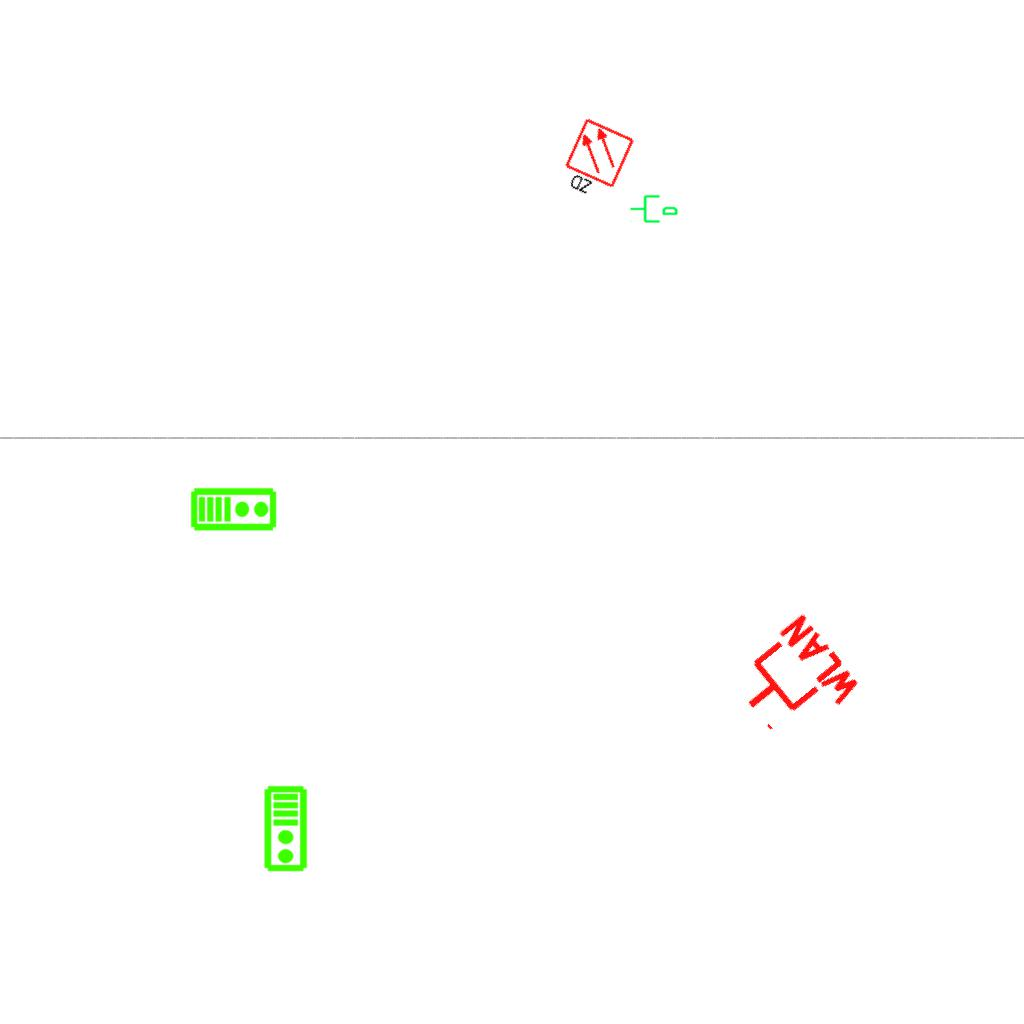Datenanschluss_einfach: (629, 191, 679, 225)
Gegensprechanlage_mit_Video: (190, 485, 278, 532), (263, 785, 310, 873)
WLAN: (719, 608, 868, 756)
ZD_Melder_in_Zwischendecke_mit_Revisionsoeffnung_mind_40_x_40_cm: (555, 116, 638, 208)
